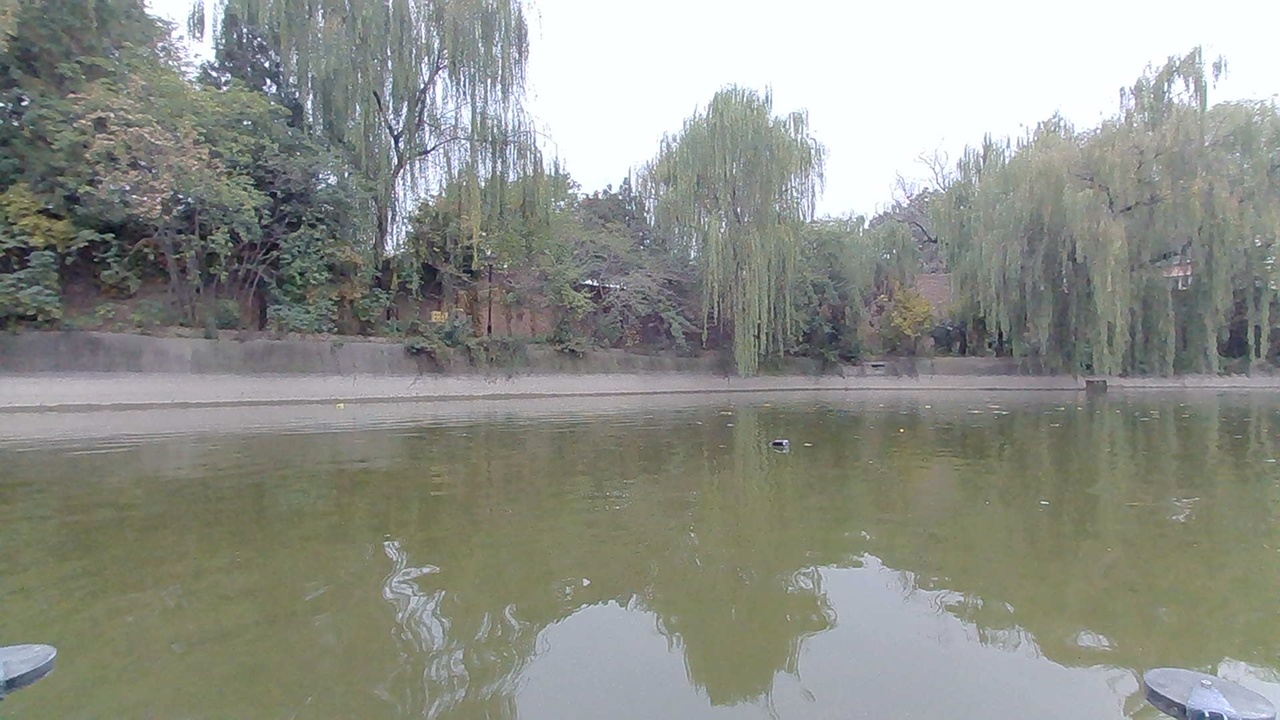bottle: (767, 430, 795, 456)
